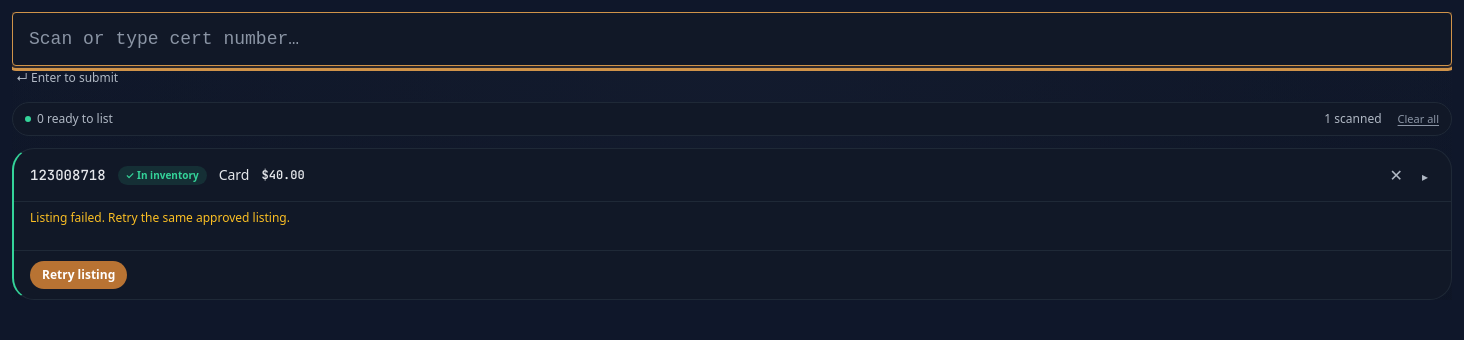
Test case: does not offer retry from stale permission when refreshing state fails
Click the button "Retry listing": (79, 275) [30, 261, 127, 289]
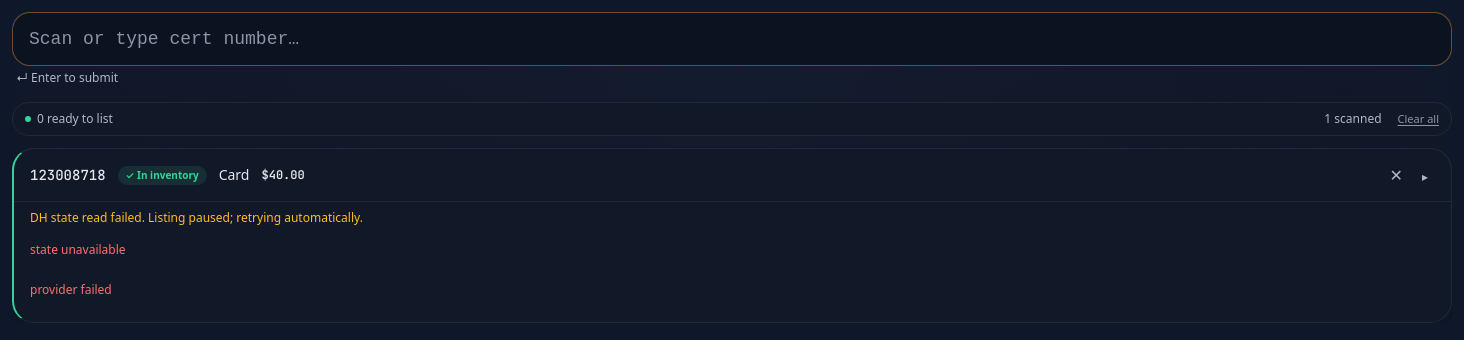
Expected: the text "provider failed" is shown, [30, 281, 112, 298]
Expected: the button "Retry listing" is gone
